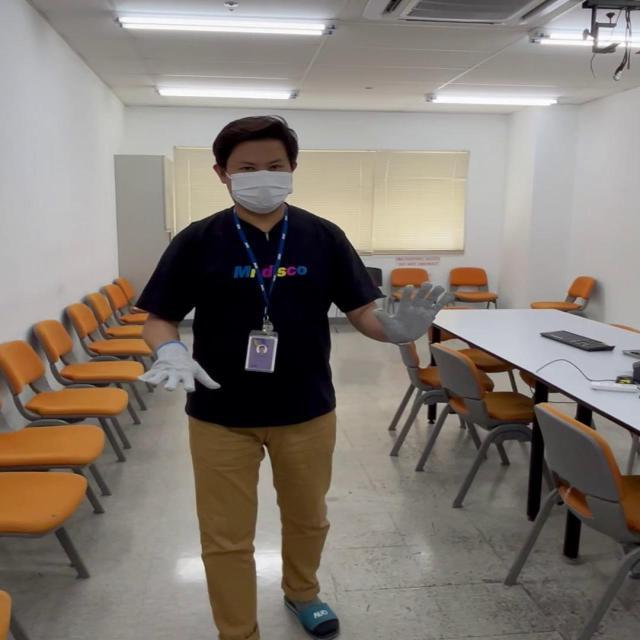gloved_hand: (375, 278, 452, 344), (129, 341, 215, 398)
